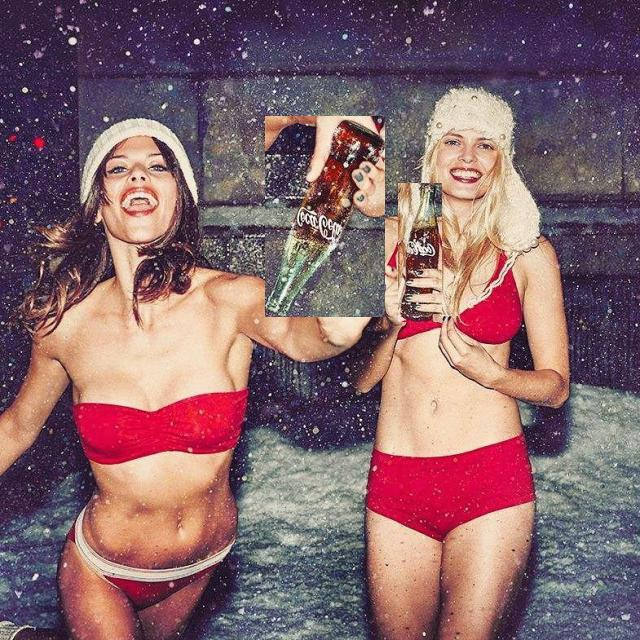coca-cola: (266, 116, 386, 317), (398, 183, 442, 322)
